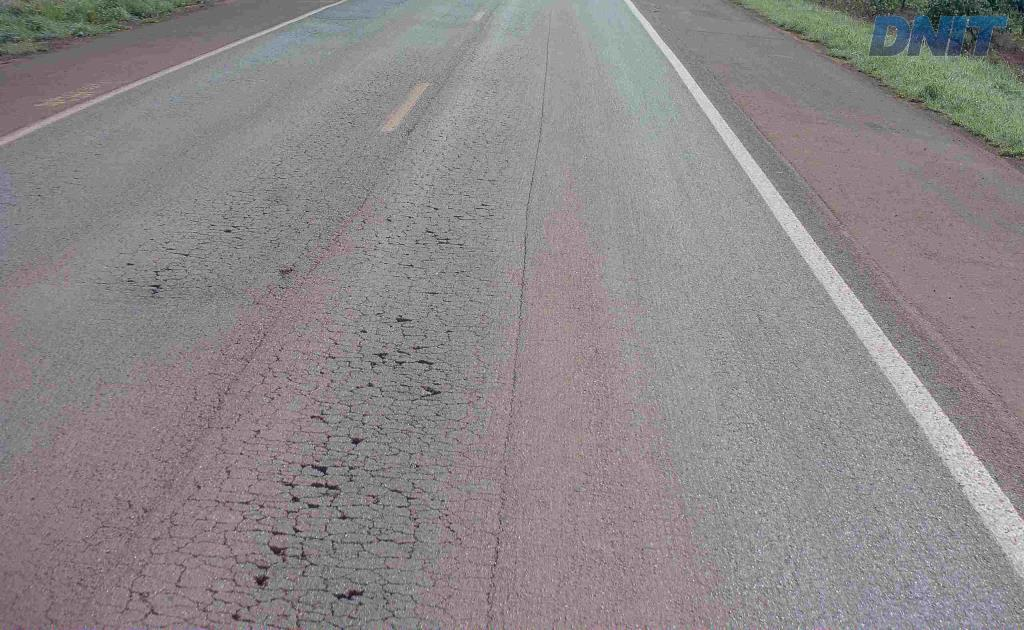crack: (219, 534, 398, 615), (276, 452, 363, 536)
